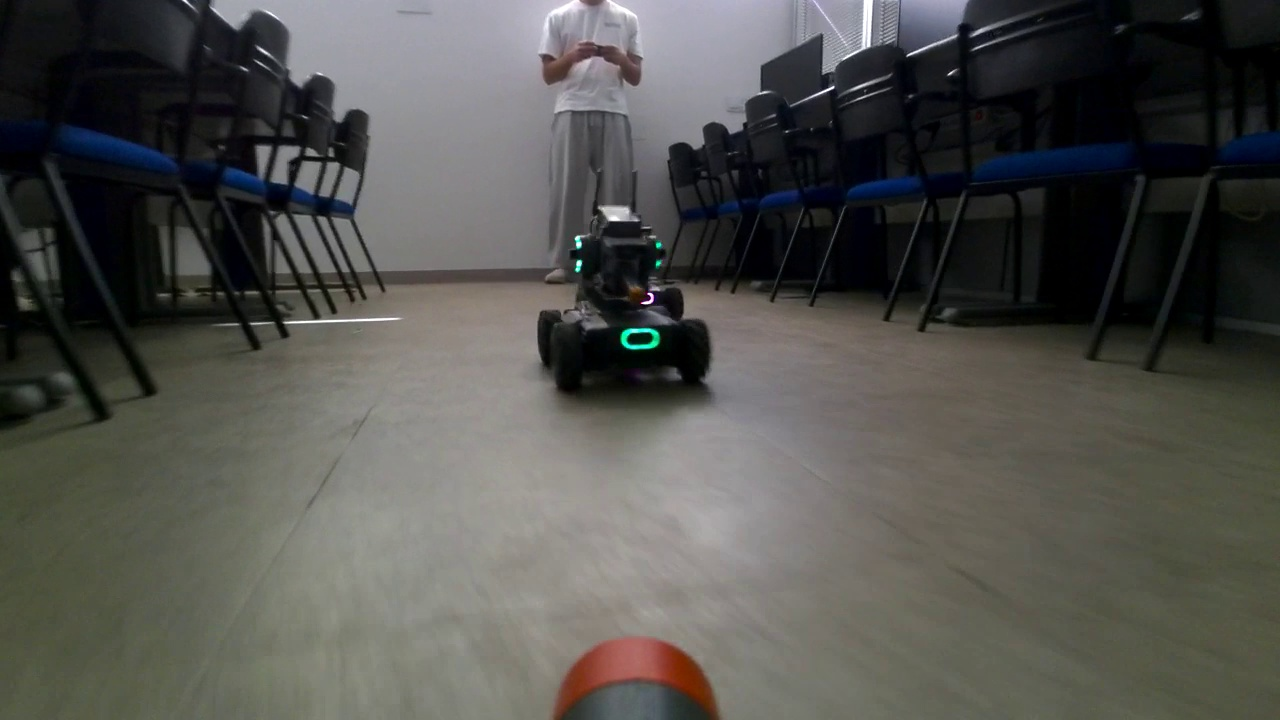robot: (539, 173, 711, 385), (572, 221, 685, 325)
